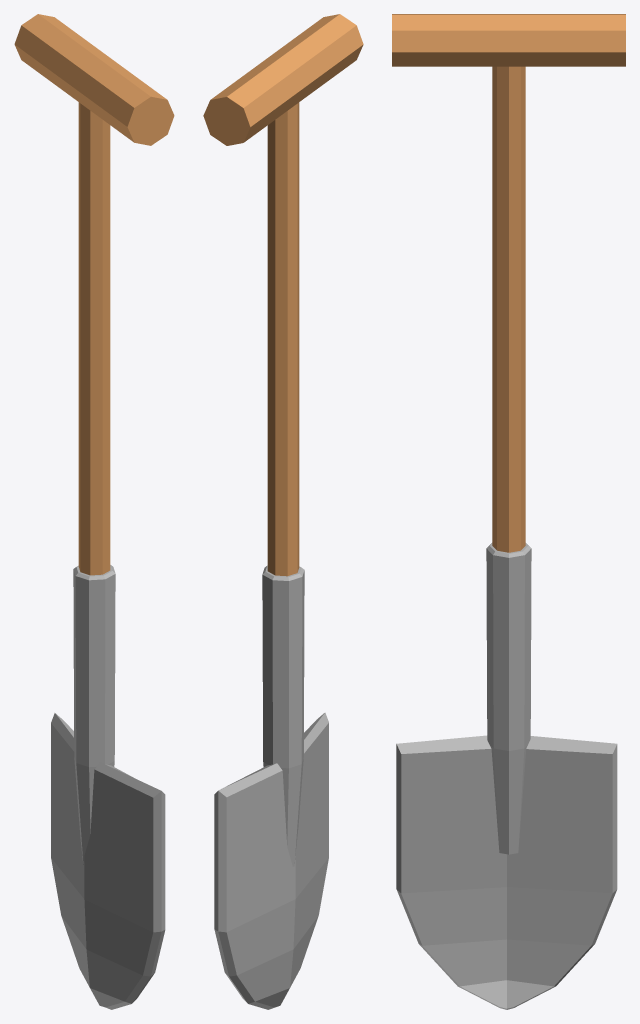
File: Shovel.glb
3 views of the same model, side by side, from view 1: azimuth 30°, elevation 25°; view 2: azimuth 150°, elevation 25°; view 3: azimuth 270°, elevation 25° (orthographic). The views are drawn at different scales.
Visible parts, largest first — view 1: Shovel; view 2: Shovel; view 3: Shovel.
Boxes of the visible parts, x1,y1,x2,y2 form: Shovel: [14, 14, 174, 1009]; Shovel: [203, 14, 363, 1009]; Shovel: [392, 14, 625, 1009].
Bounding box in the file's own units: 7.83 × 152 × 32.59.
